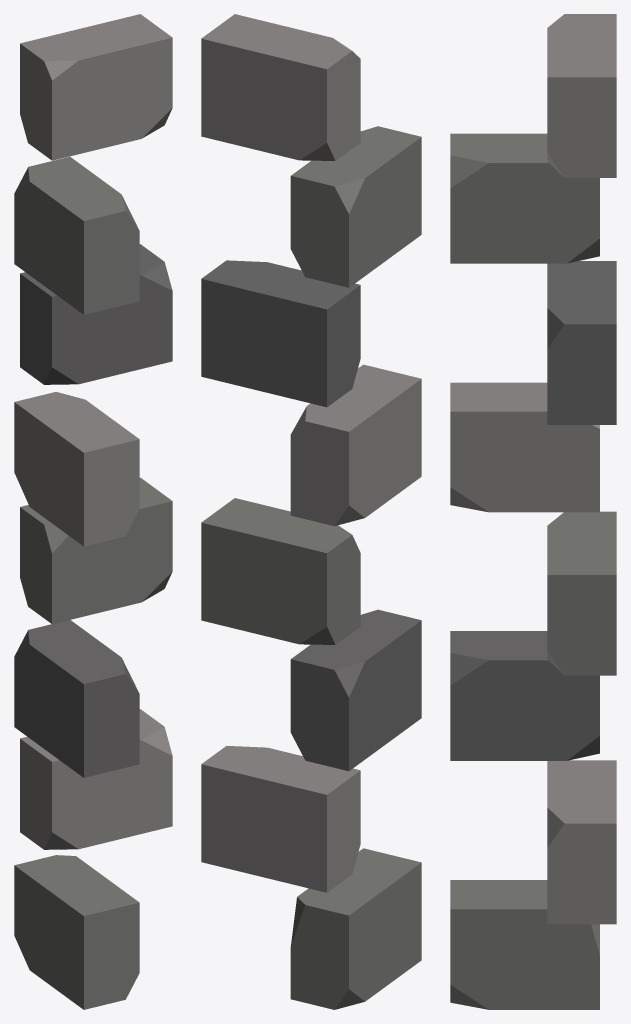
File: SM_Bld_Wall_Brick_Corner_02.fbx
3 views of the same model, side by side, from view 1: azimuth 30°, elevation 25°; view 2: azimuth 150°, elevation 25°; view 3: azimuth 270°, elevation 25° (orthographic). The views are drawn at different scales.
Visible parts, largest first — view 1: SM_Bld_Wall_Brick_Corner_02; view 2: SM_Bld_Wall_Brick_Corner_02; view 3: SM_Bld_Wall_Brick_Corner_02.
Part boxes in pixels (x1,y1,x2,y2): SM_Bld_Wall_Brick_Corner_02: (14,14,172,1009); SM_Bld_Wall_Brick_Corner_02: (201,14,421,1009); SM_Bld_Wall_Brick_Corner_02: (450,14,616,1009).
Size of the model in its own units: 45.32 by 293 by 45.32.
